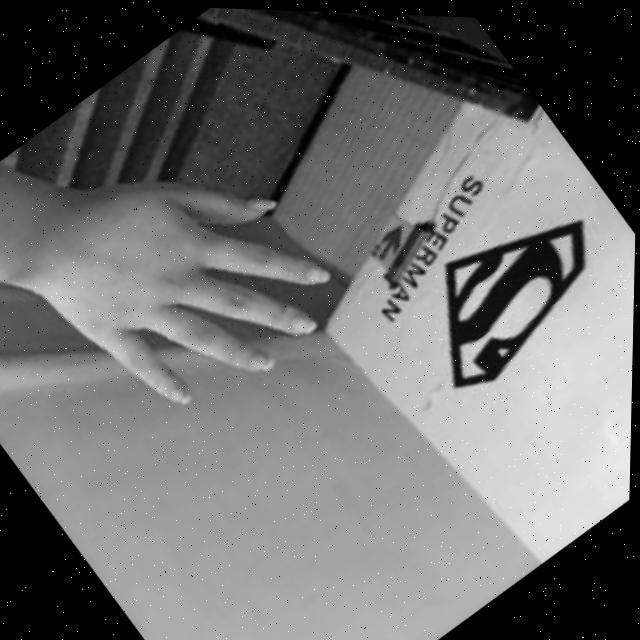no-gloves: (0, 98, 364, 466)
